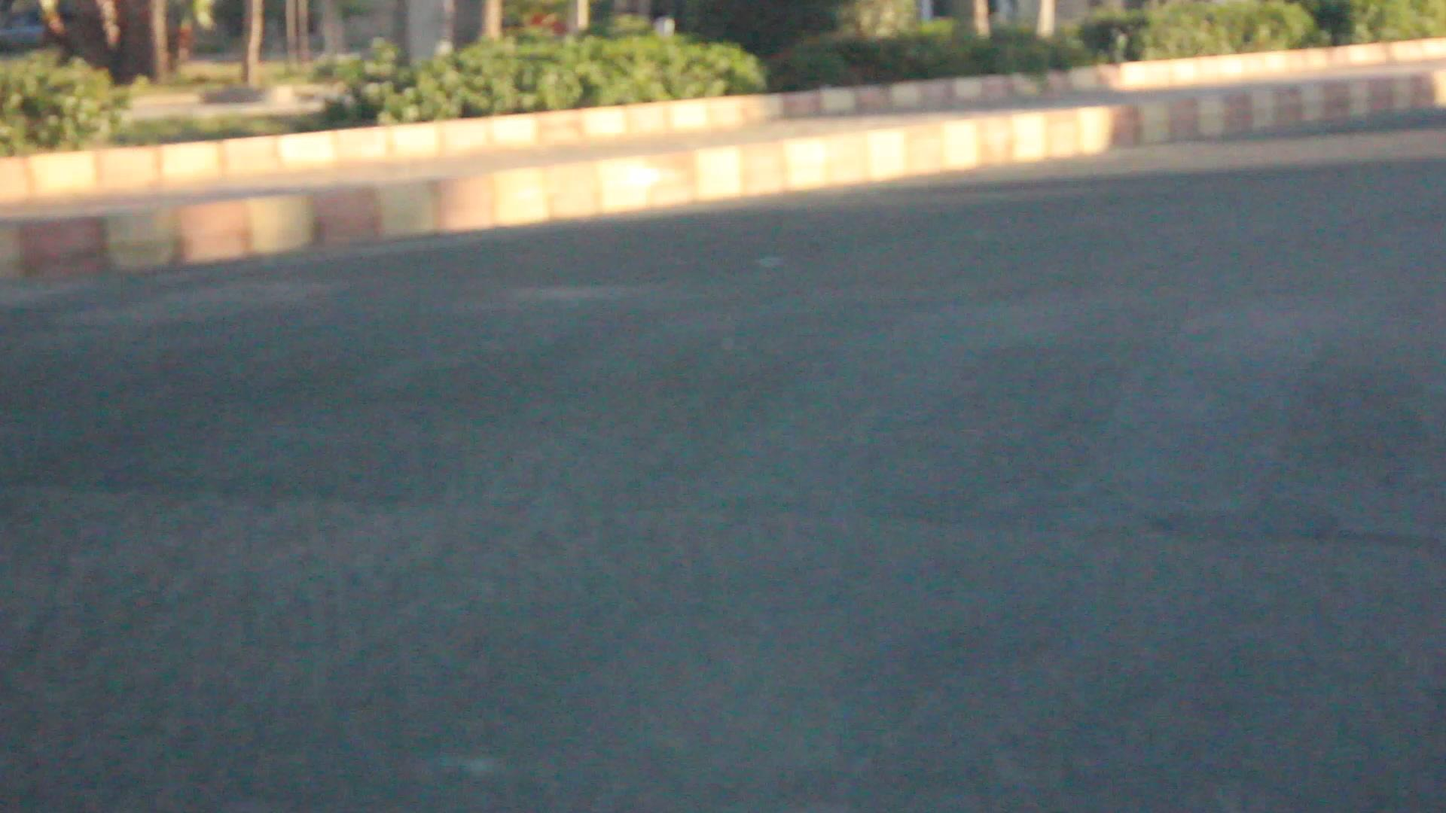Bump: (21, 267, 1437, 531)
